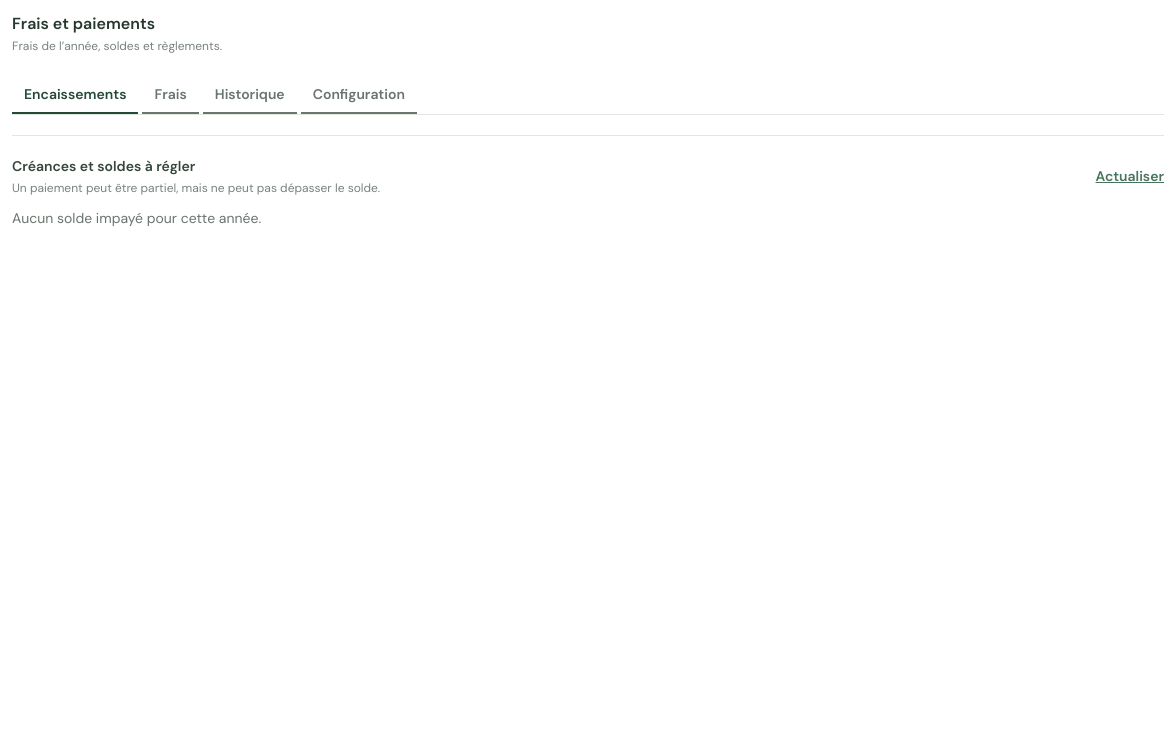
Test: TuitionWorkspaceComponent › shows one financial section at a time and switches between sections
This screenshot has width=1176, height=732.
Expected: the text "Définir un frais scolaire" is not shown
Click the button "Frais".
click(171, 95)  # box [142,76,199,114]
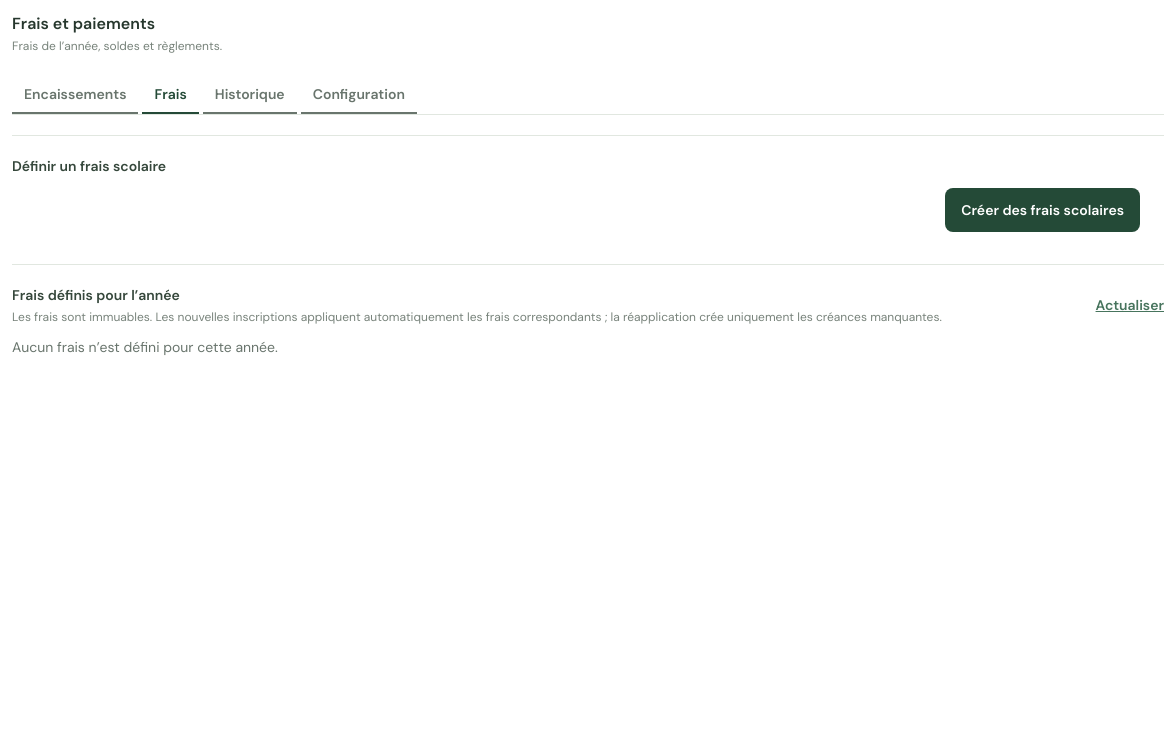
Now the text "Définir un frais scolaire" is shown, box [12,157,166,175]
Now the text "Créances et soldes à régler" is gone
Click the button "Configuration".
click(359, 95)  # box [301,76,417,114]
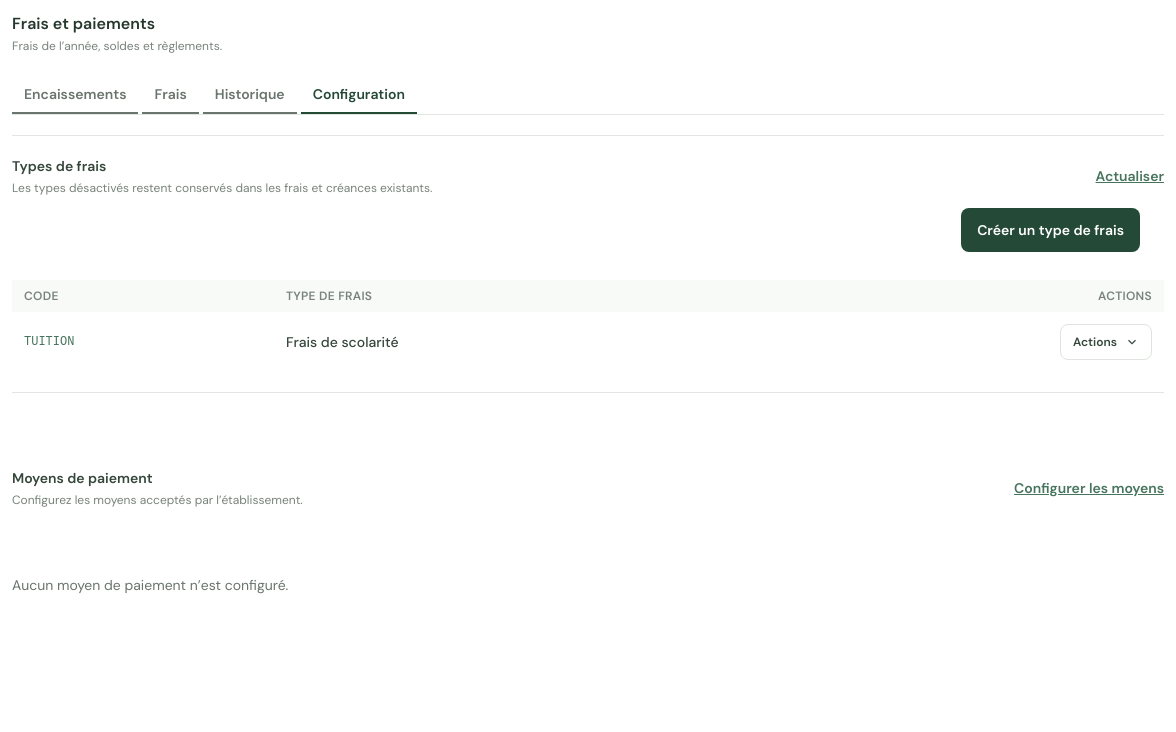
Now the text "Moyens de paiement" is shown, box [12,469,153,487]
Now the text "Types de frais" is shown, box [12,157,106,175]
Now the text "TUITION" is shown, box [12,312,274,372]
